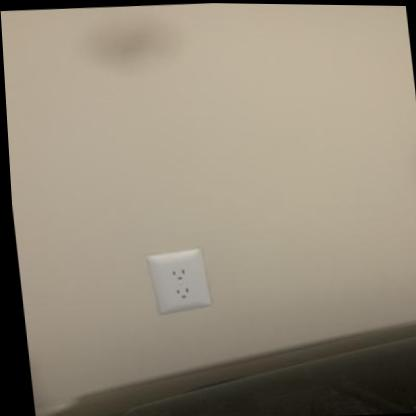OUTLET: (146, 247, 210, 314)
